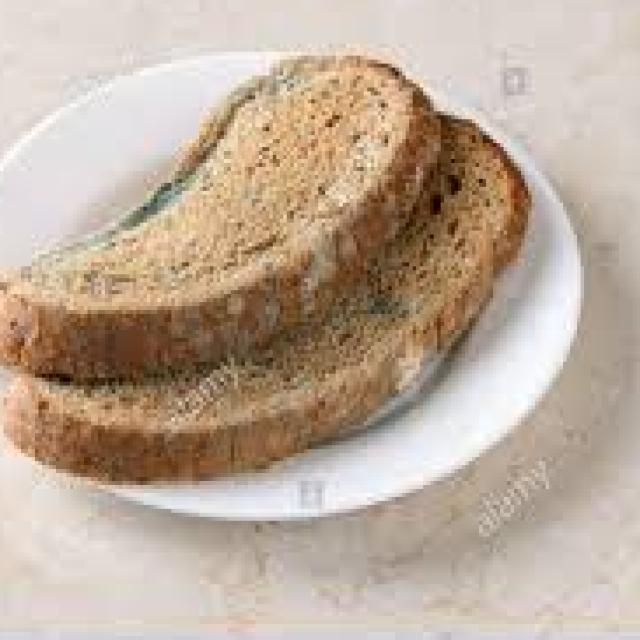organic: (10, 34, 605, 526)
